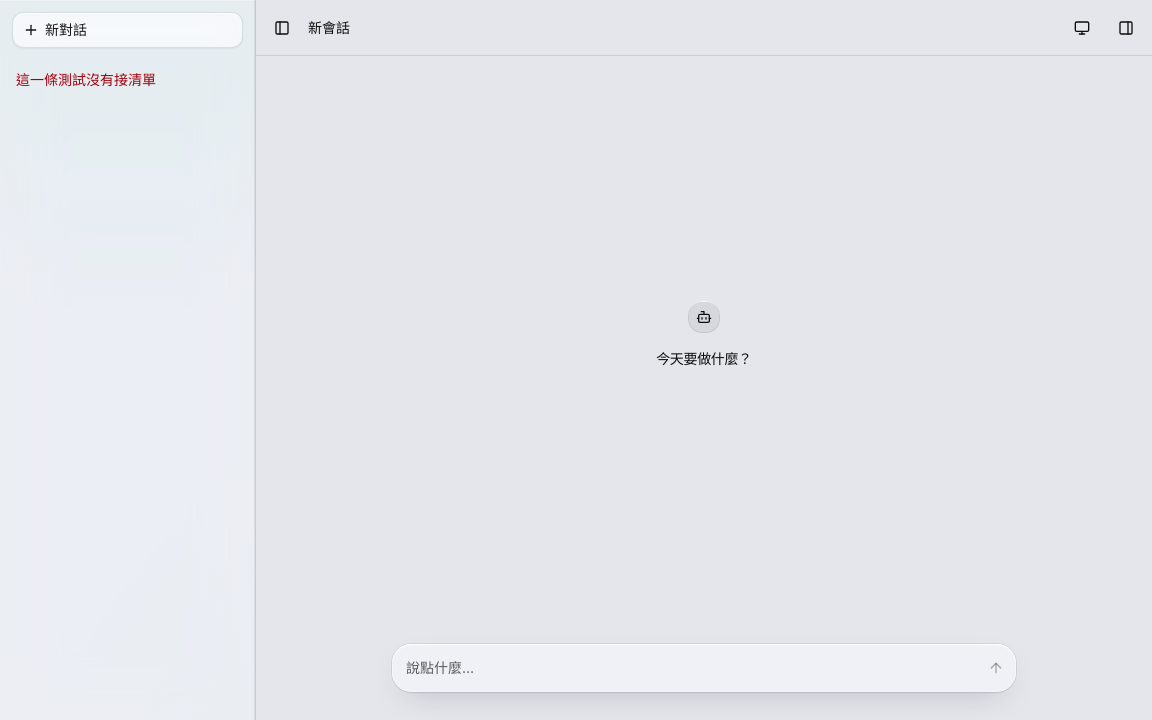
it: @子代理 提及（#328） › 支援時走完整流程：選了出現標記，送出帶 mention，文字不含提及，標記清掉
Step 1. Type "請看 @rev" into the text box named "要說的話" → (691, 668), box [406, 652, 976, 684]
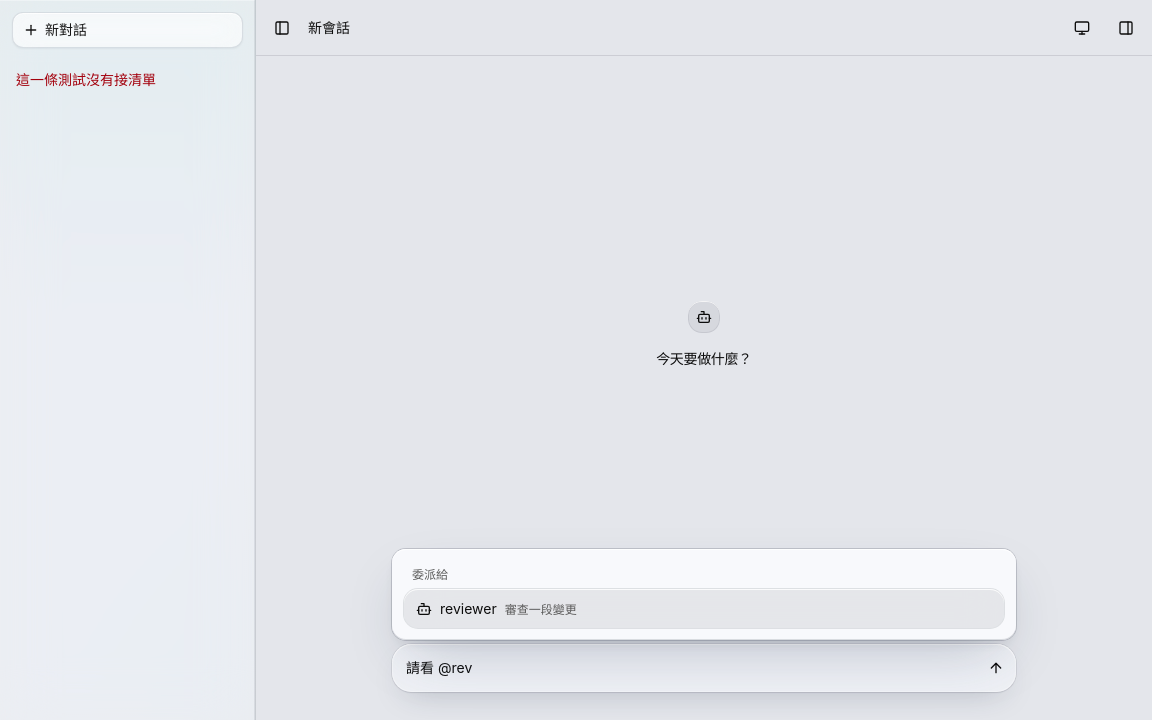
Result: the dialog named "@ 選單" is shown at [392, 549, 1016, 640]
Step 2. Press Enter in the text box named "要說的話", box [406, 652, 976, 684]
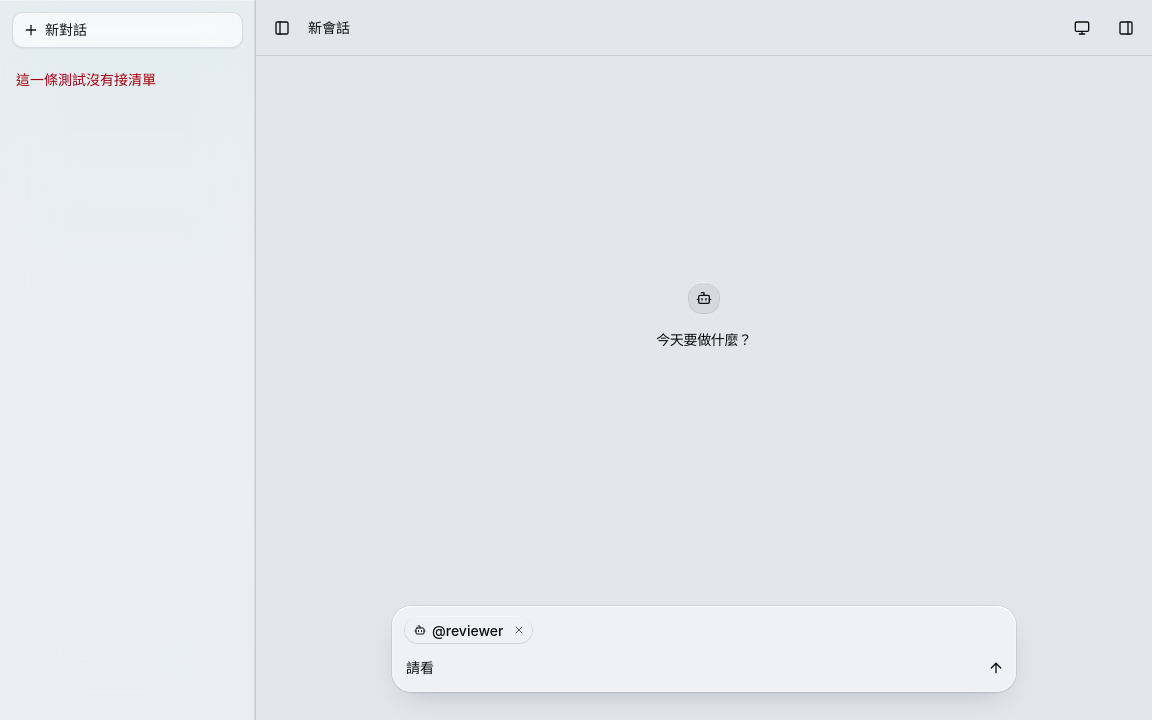
Result: the element with test id "agent-mention-chip" reads "@reviewer" at [404, 616, 534, 644]
Result: the text box named "要說的話" holds "請看 "
Step 3. Replace the text in the text box named "要說的話" with "請看 這個檔案" → (691, 668), box [406, 652, 976, 684]
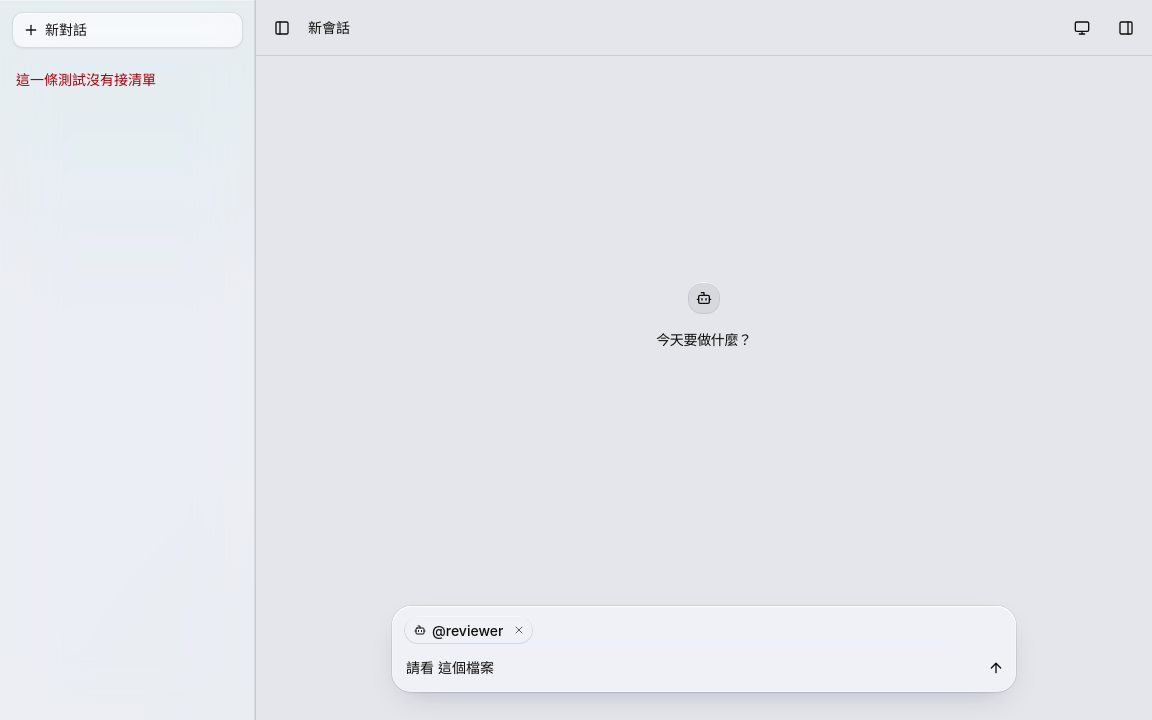
Step 4. Click the button named "送出" → (996, 668), box [980, 652, 1012, 684]
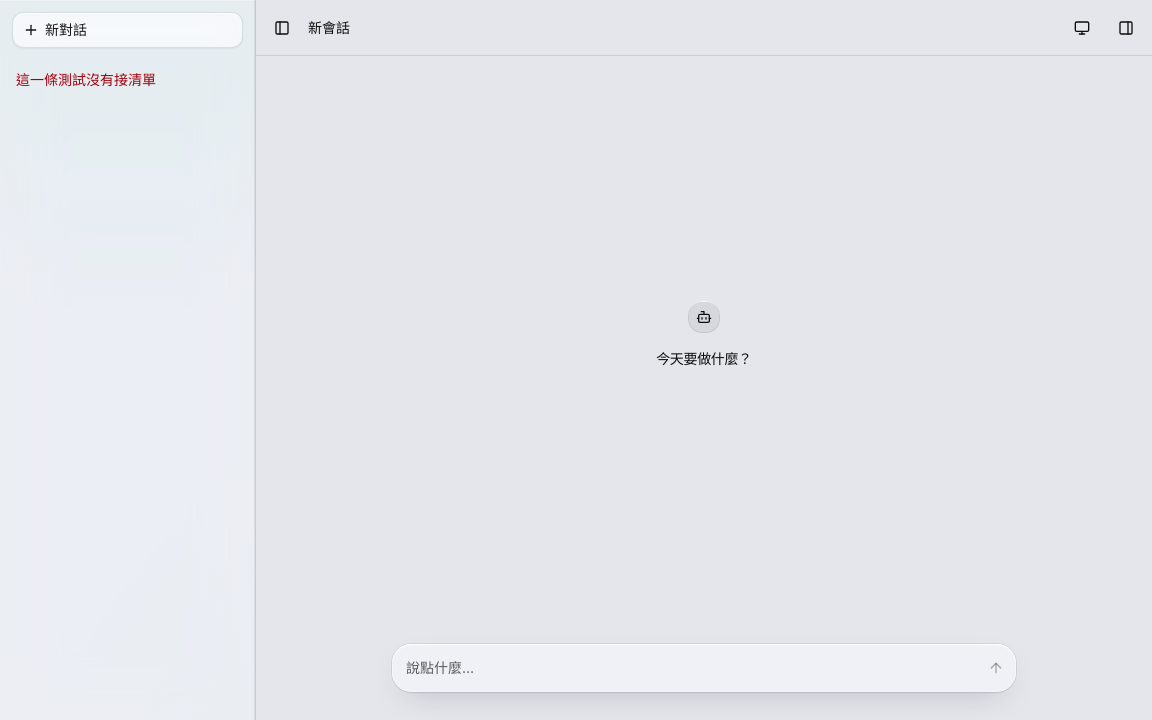
Result: the element with test id "agent-mention-chip" is gone
